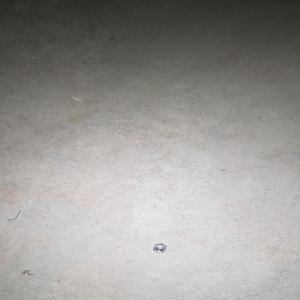Nut: (151, 243, 167, 252)
